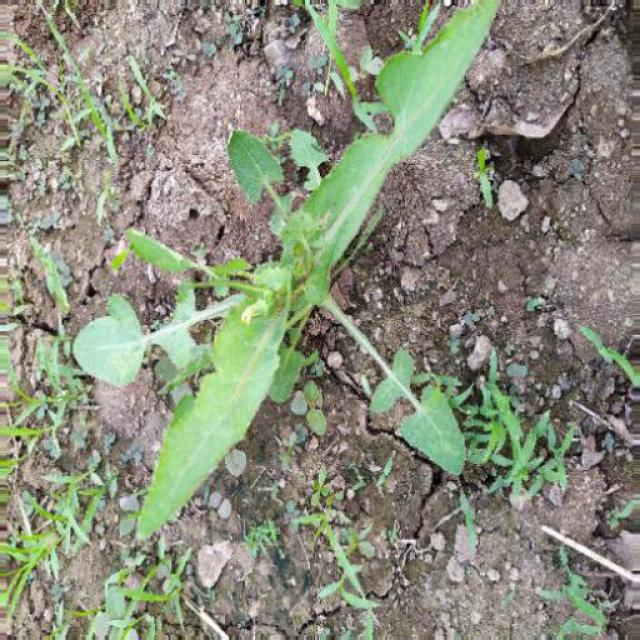crop: (63, 4, 515, 640)
